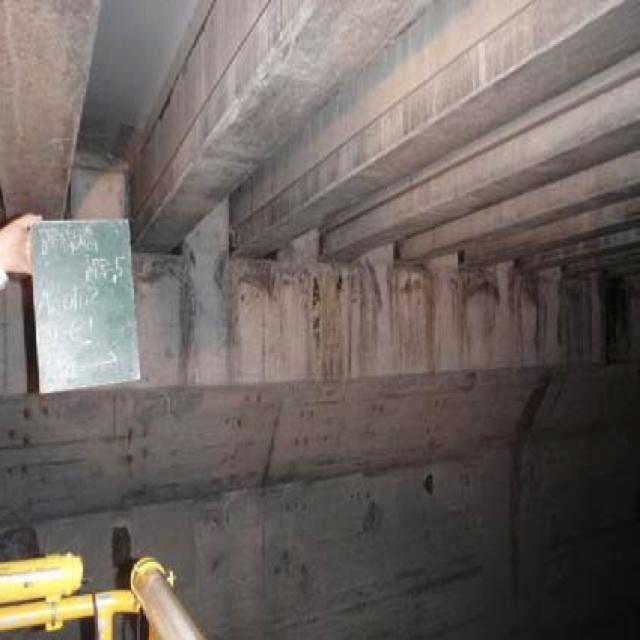freelime: (170, 235, 250, 402)
